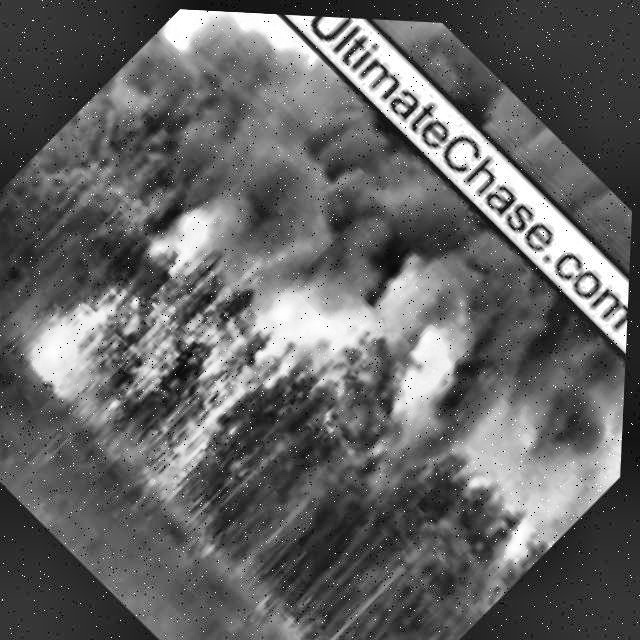Fire: (15, 161, 341, 491), (334, 250, 544, 468)
